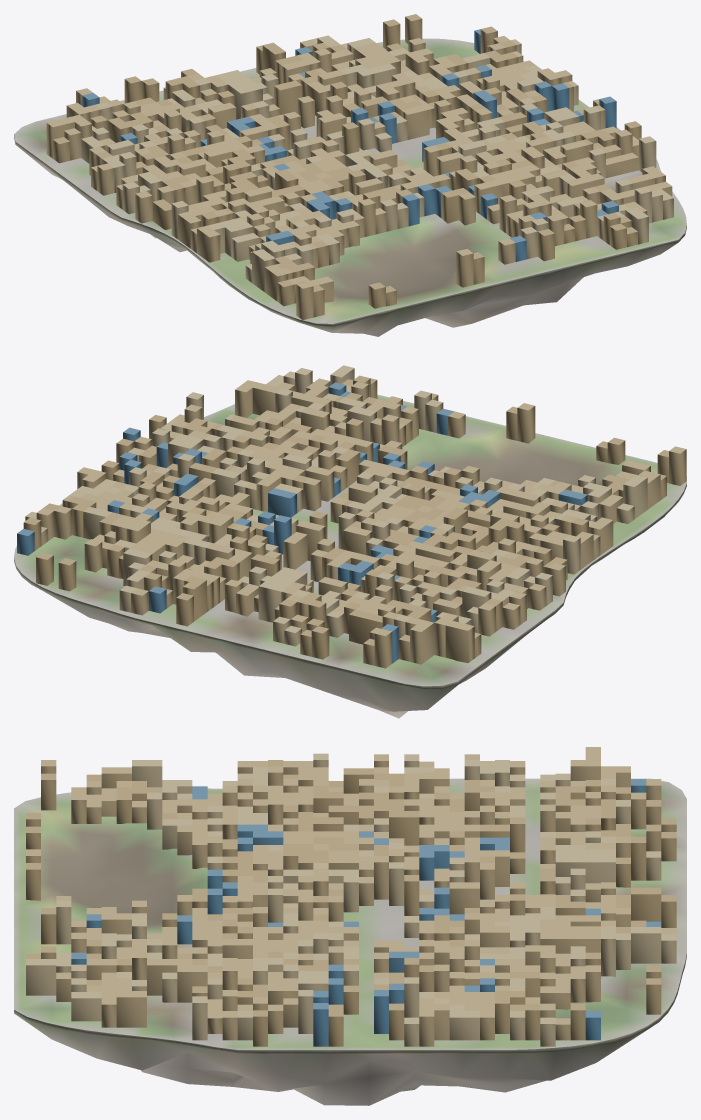
Rendered from SKY-040.lod1.glb.
The picture shows the model from 3 angles, top to bottom: view 1: azimuth 30°, elevation 25°; view 2: azimuth 150°, elevation 25°; view 3: azimuth 270°, elevation 25°; orthographic projection. The views are drawn at different scales.
Visible parts, largest first — view 1: warren_hull, deck, rock; view 2: warren_hull, deck, rock; view 3: warren_hull, deck, rock.
Boxes of the visible parts, <box> form: warren_hull: <box>46,14,673,319</box>; deck: <box>14,38,686,323</box>; rock: <box>14,135,686,336</box>; warren_hull: <box>17,365,686,668</box>; deck: <box>14,382,686,686</box>; rock: <box>14,483,686,718</box>; warren_hull: <box>26,747,676,1046</box>; deck: <box>14,778,686,1049</box>; rock: <box>14,953,686,1105</box>.
Bounding box in the file's own units: 255 × 86.37 × 267.
